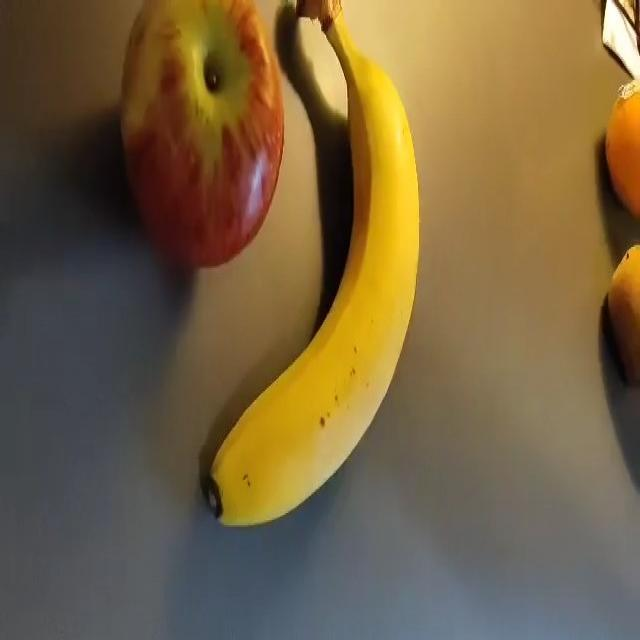Apple: (118, 0, 285, 270)
Banana: (203, 0, 420, 528)
Orange: (604, 78, 639, 217)
